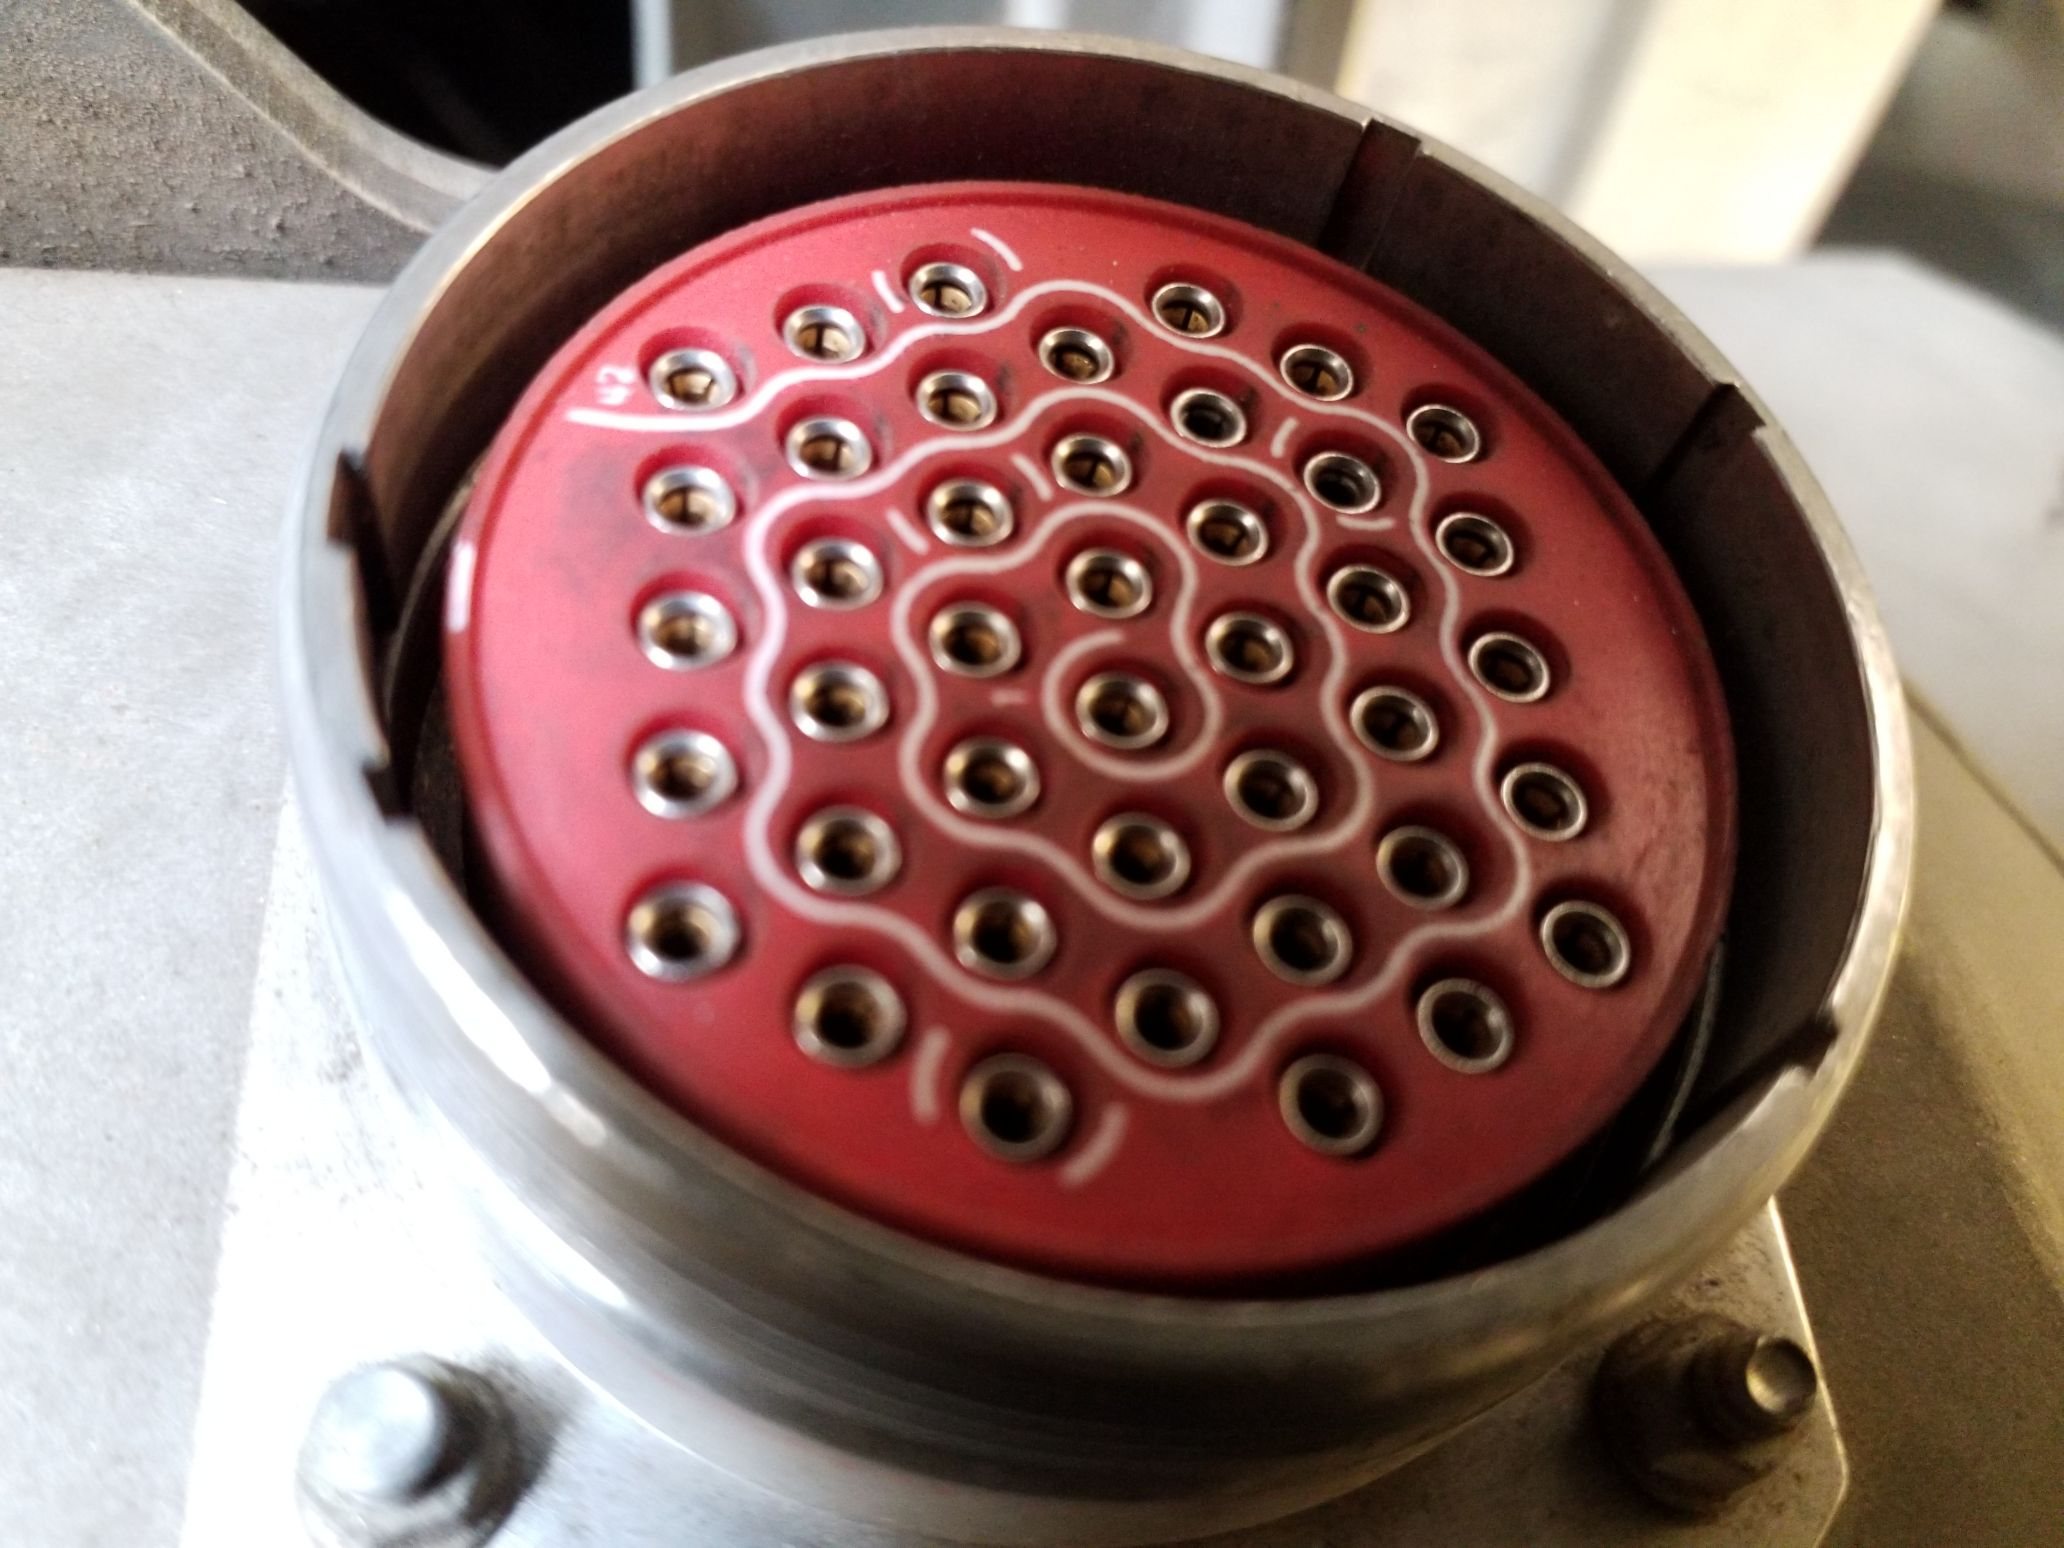inletround: (276, 7, 1927, 1385)
